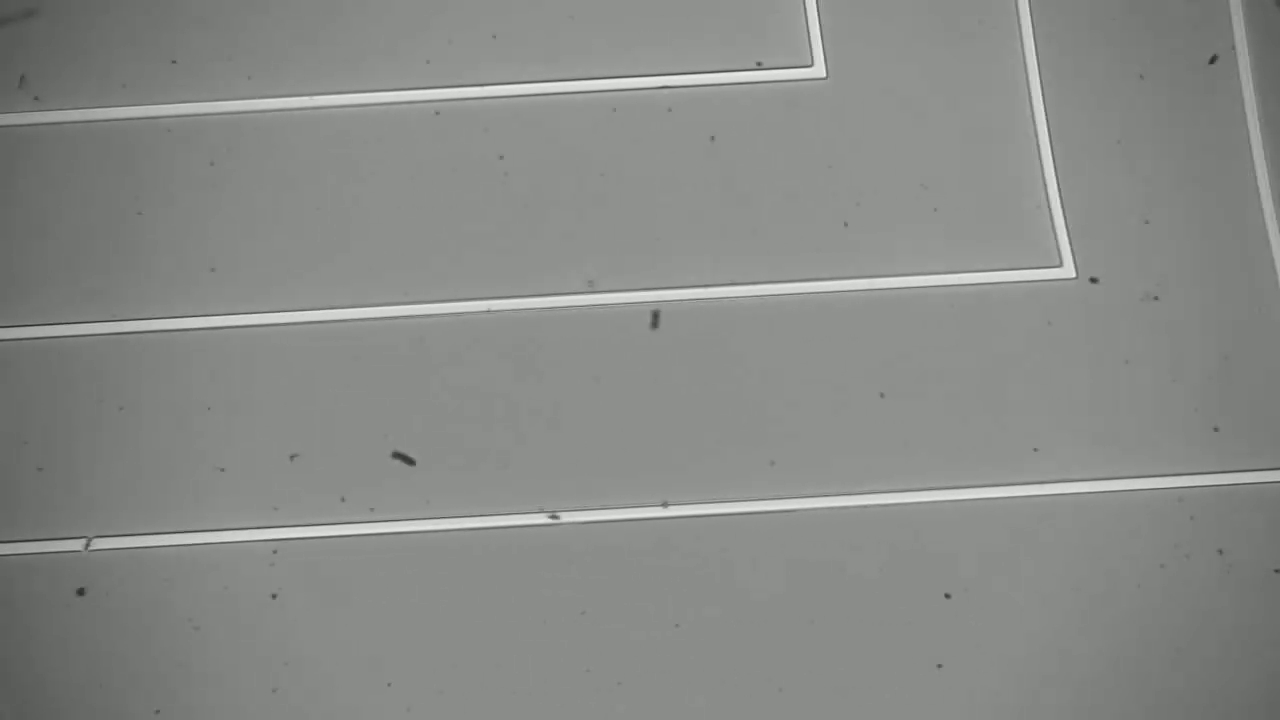stains_enbedded: (534, 505, 573, 533), (74, 530, 108, 561)
